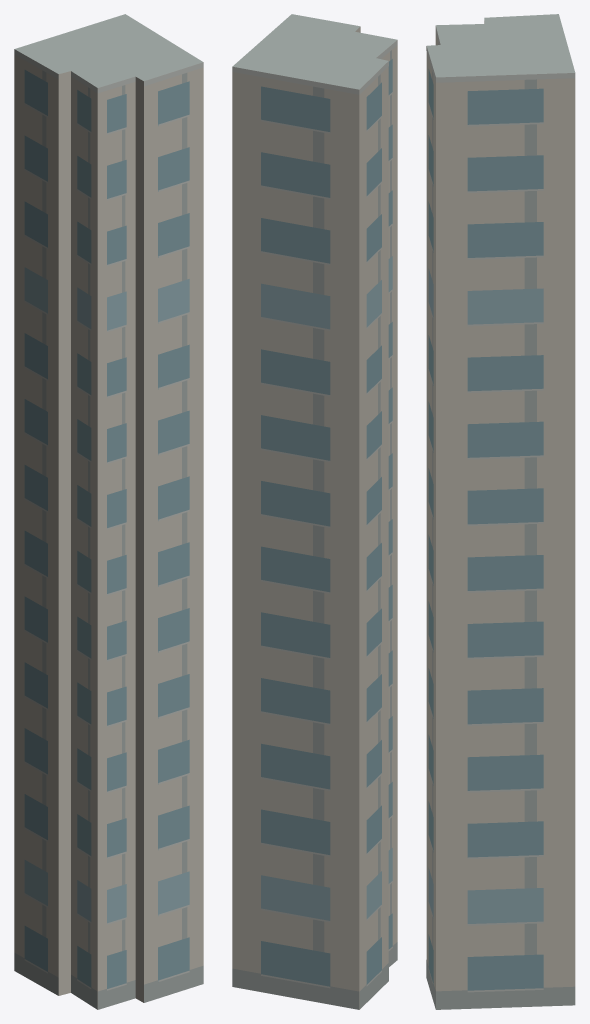
File: survey-upis-32937121.glb
3 views of the same model, side by side, from view 1: azimuth 30°, elevation 25°; view 2: azimuth 150°, elevation 25°; view 3: azimuth 270°, elevation 25° (orthographic).
Parts seen in each view (by area): view 1: survey-upis-32937121.tmp; view 2: survey-upis-32937121.tmp; view 3: survey-upis-32937121.tmp.
Boxes of the visible parts, box(x1,y1,x2,y2) form: survey-upis-32937121.tmp: box(14, 14, 203, 1009); survey-upis-32937121.tmp: box(232, 14, 397, 1009); survey-upis-32937121.tmp: box(426, 14, 575, 1009).
Size of the model in its own units: 6.24 by 42.7 by 6.19.
